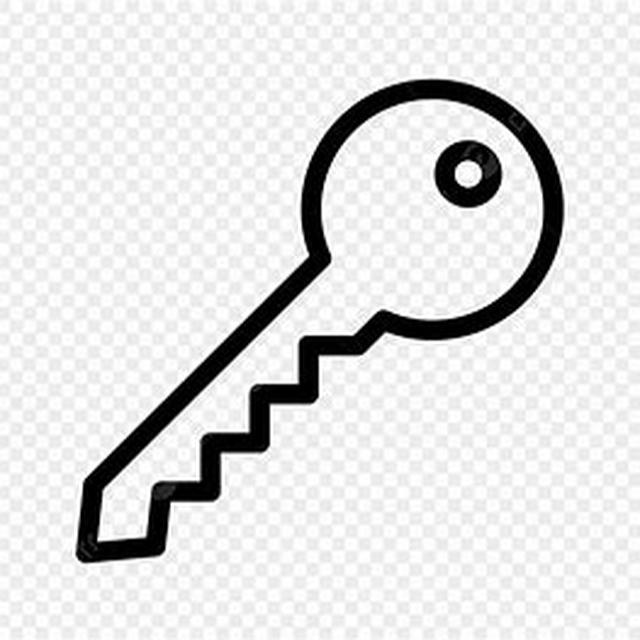key: (68, 78, 570, 564)
